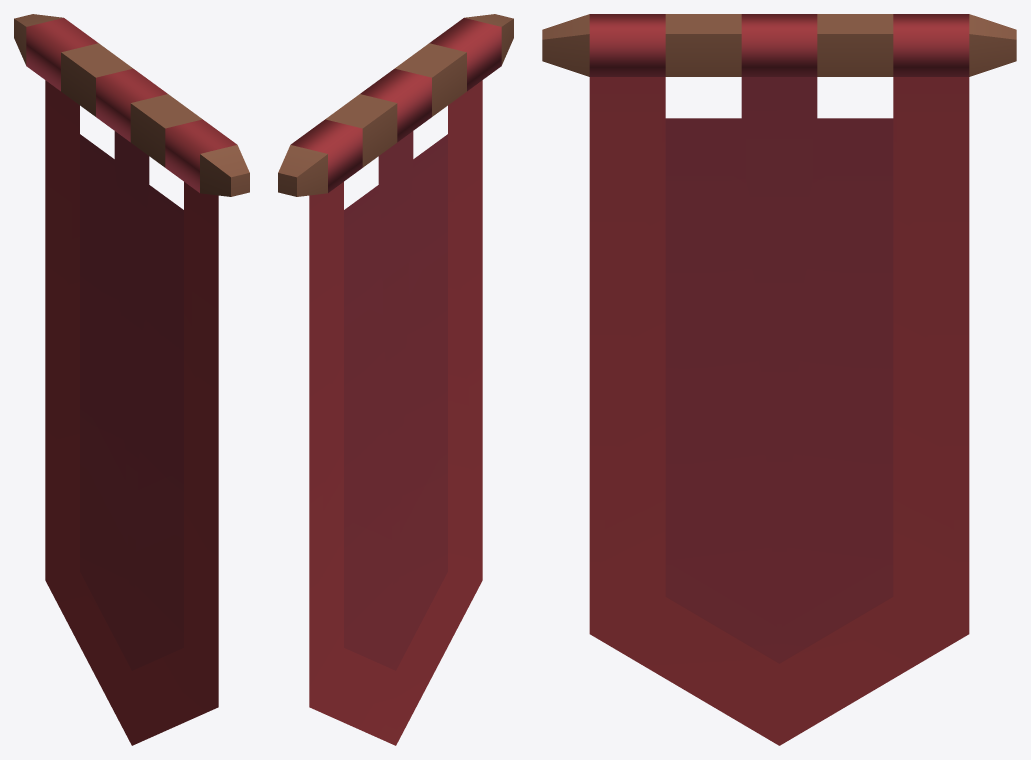
File: banderola.glb
3 views of the same model, side by side, from view 1: azimuth 30°, elevation 25°; view 2: azimuth 150°, elevation 25°; view 3: azimuth 270°, elevation 25° (orthographic). The views are drawn at different scales.
Visible parts, largest first — view 1: banner-red; view 2: banner-red; view 3: banner-red.
Boxes of the visible parts, box(x1,y1,x2,y2) form: banner-red: box(14, 14, 249, 745); banner-red: box(278, 14, 513, 745); banner-red: box(542, 14, 1016, 745).
Size of the model in its own units: 0.05 by 0.8394 by 0.5.
